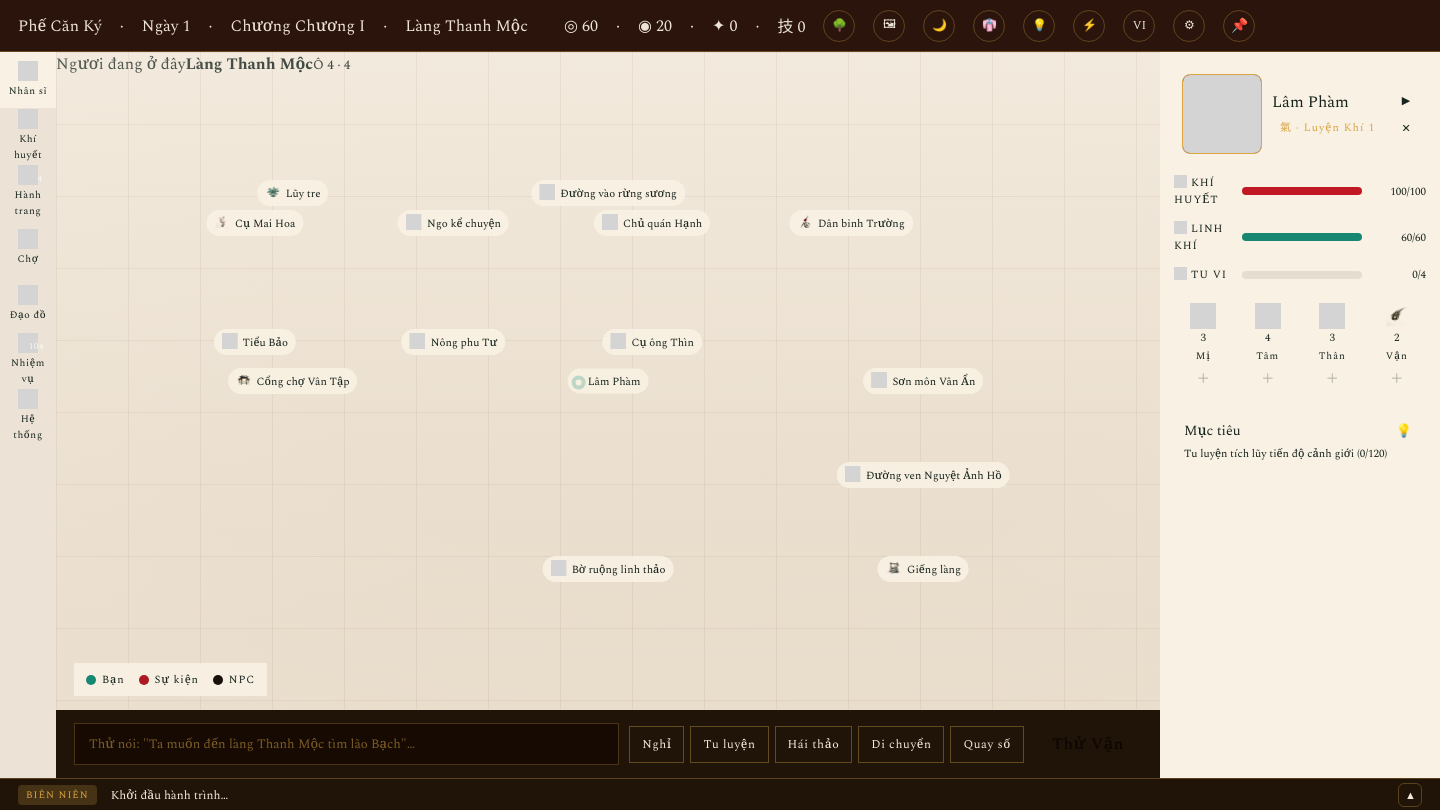
Scenario: C3-15: Lunar Calendar & Forecast UI (React Component Tests) › integrates with ProtoShell topbar button to toggle modal
Expected: the dialog "Lịch Âm & Dự Báo Thiên Tượng" is not shown
Note: Click topbar button
Click the button with test id "lunar-calendar-btn". click: (940, 26)
box: [924,10,956,42]
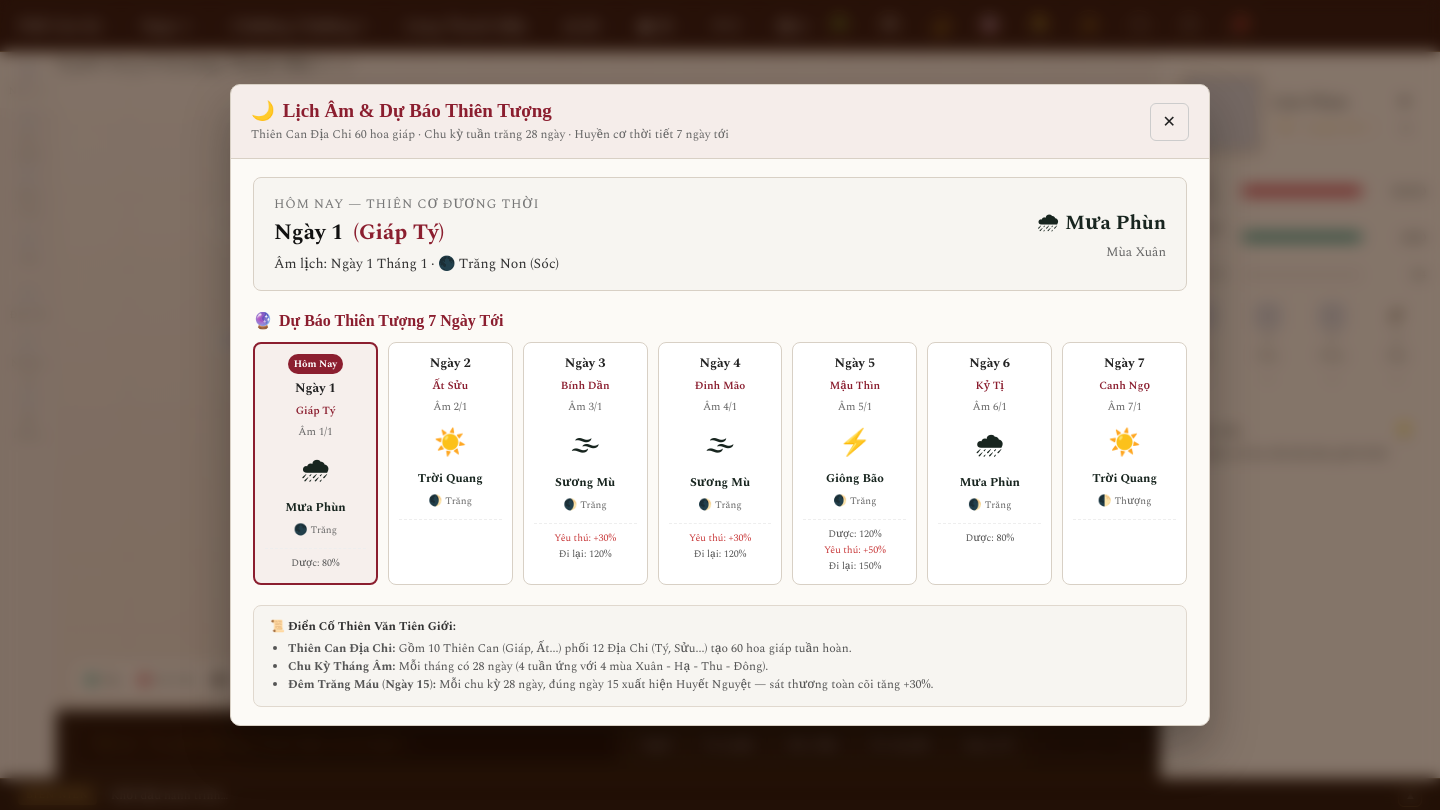
Now the dialog "Lịch Âm & Dự Báo Thiên Tượng" is shown, box [230,84,1210,726]
Note: Close modal via close button
Click the button with test id "lunar-calendar-close-btn". click: (1169, 122)
box: [1150,102,1189,140]
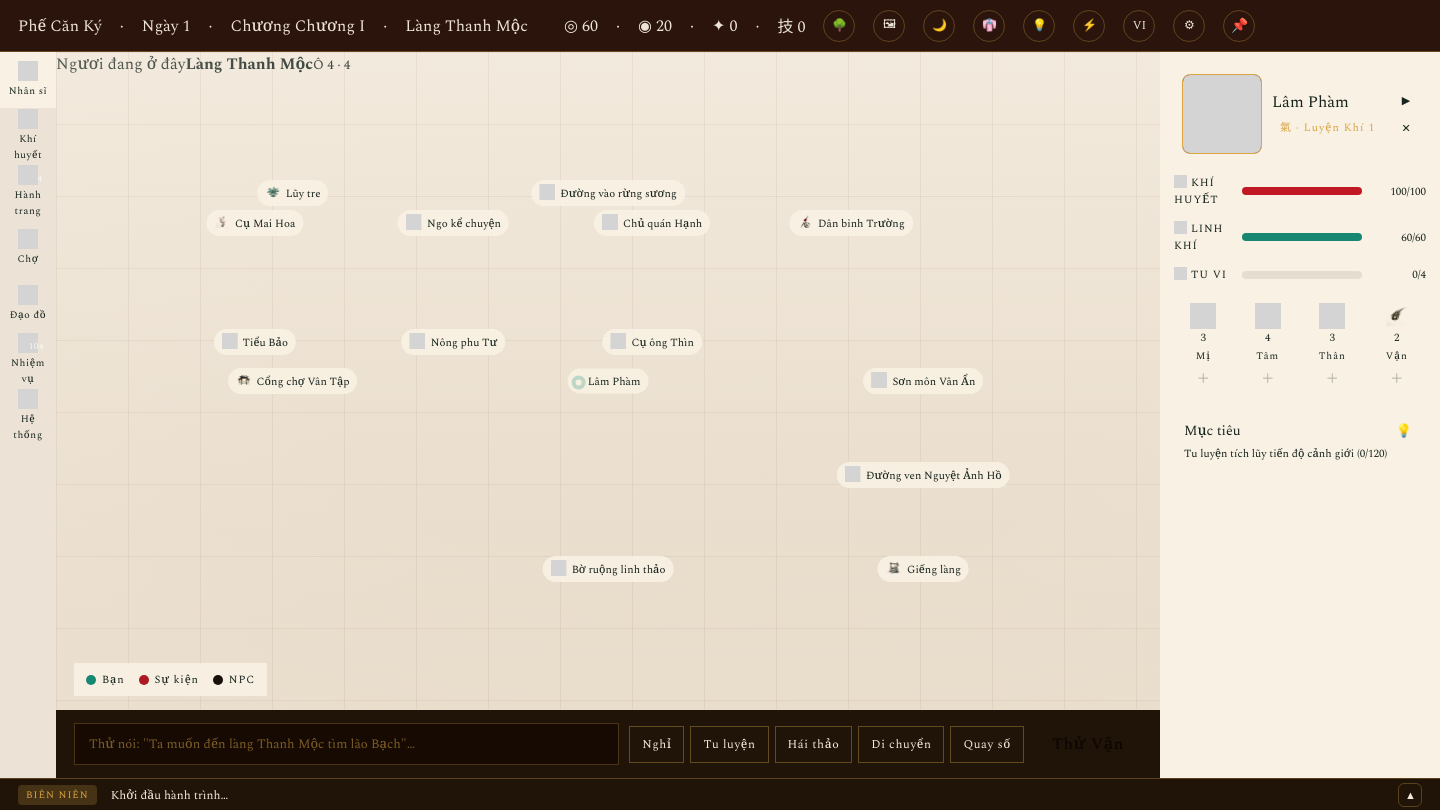
Now the text "Lịch Âm & Dự Báo Thiên Tượng" is gone
